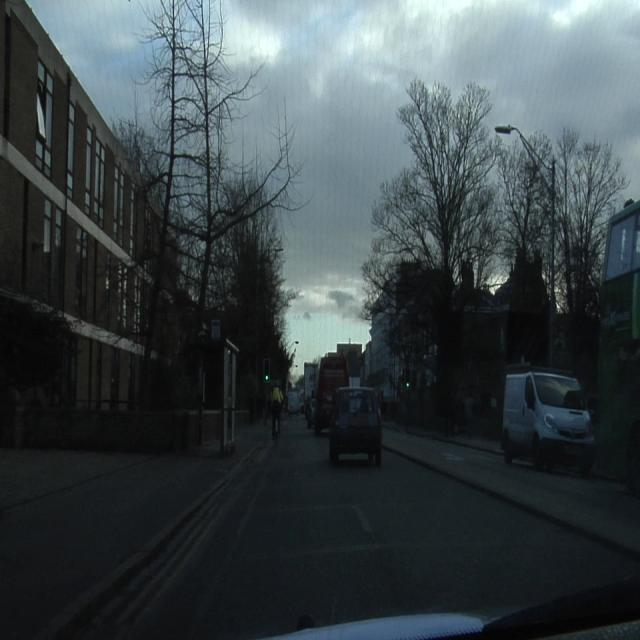Bicyclist: (270, 385, 282, 439)
Building: (1, 4, 155, 408), (305, 344, 365, 427)
Car: (503, 371, 593, 471), (329, 387, 380, 463)
Road: (78, 419, 637, 637)
Tree: (365, 79, 627, 378), (133, 0, 302, 386)
